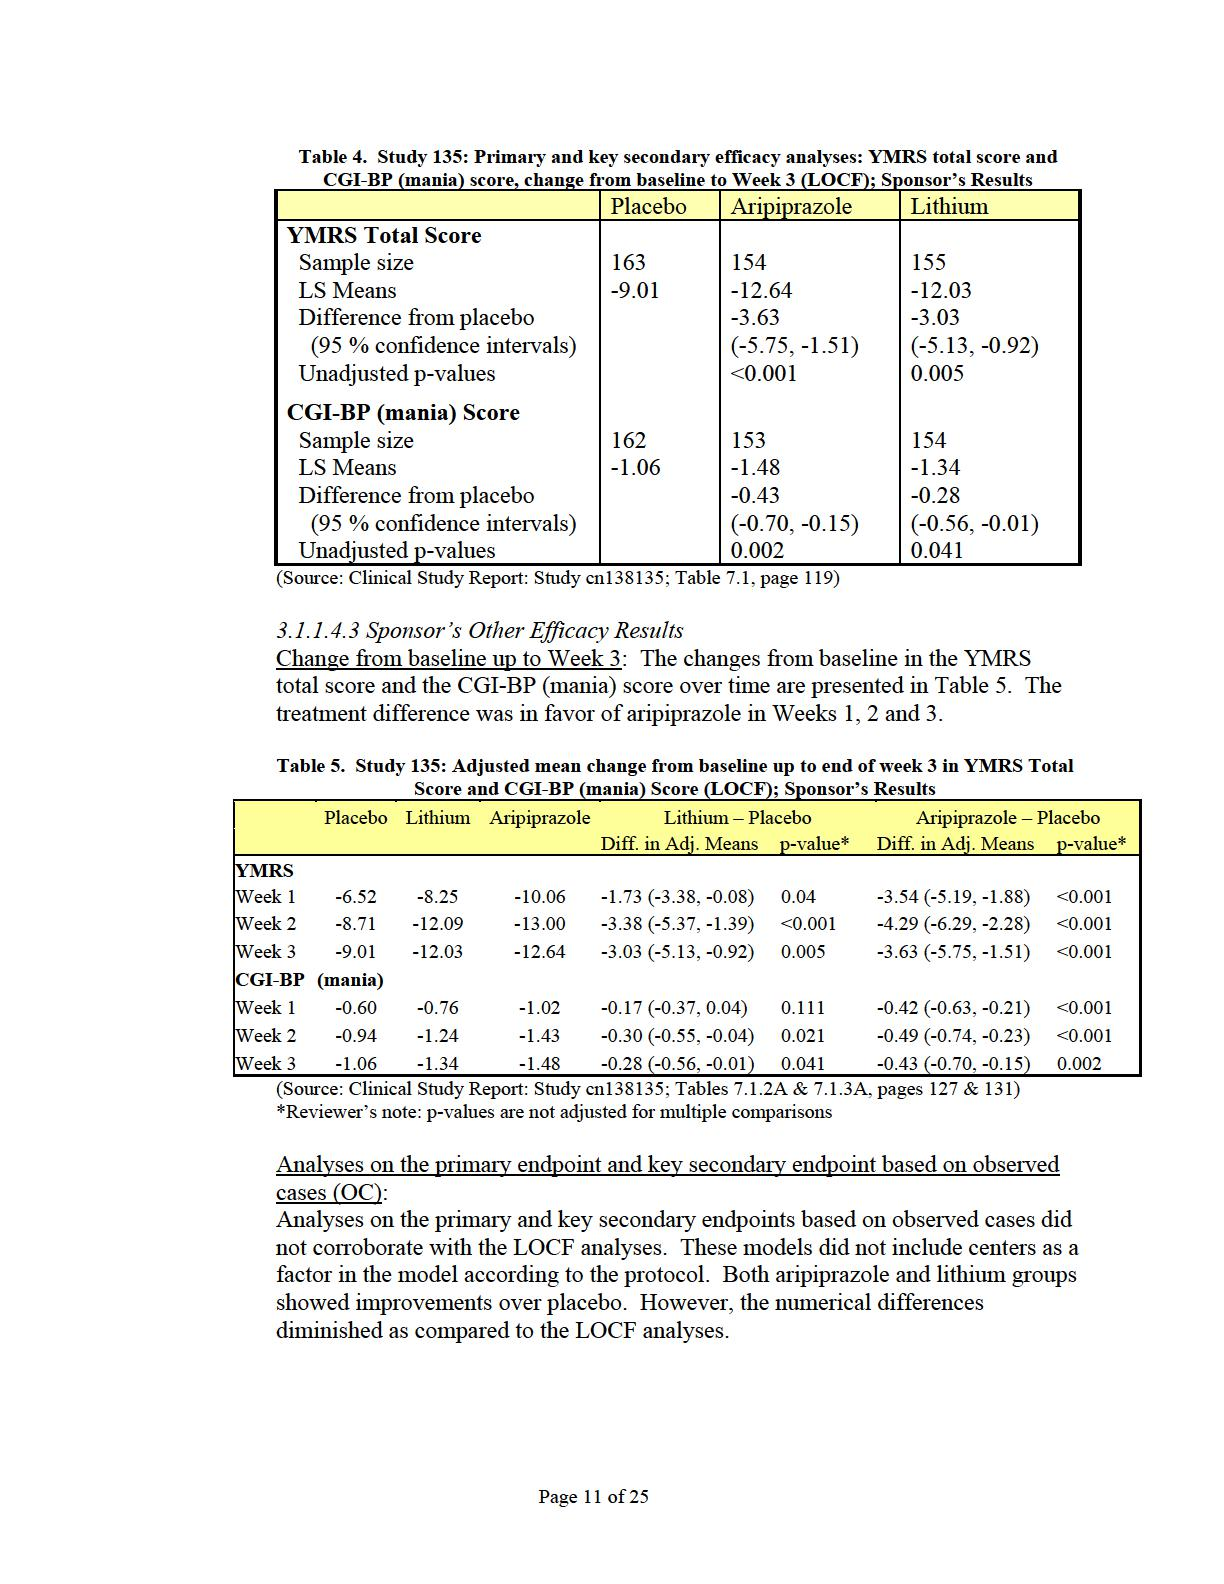partial_lined: (273, 188, 1083, 567), (231, 800, 1142, 1077)
